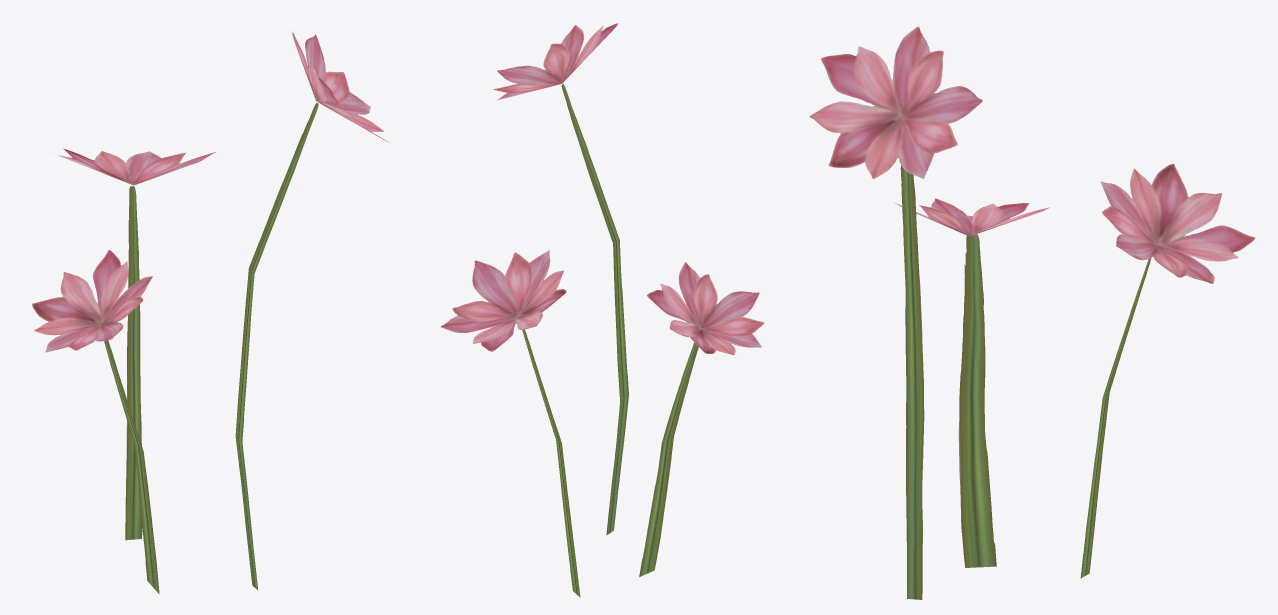
File: SM_Ground_Pink_Flower_B.fbx
The picture shows the model from 3 angles, left to right: view 1: azimuth 30°, elevation 25°; view 2: azimuth 150°, elevation 25°; view 3: azimuth 270°, elevation 25°; orthographic projection. The views are drawn at different scales.
Parts seen in each view (by area): view 1: SM_Ground_Pink_Flower_B; view 2: SM_Ground_Pink_Flower_B; view 3: SM_Ground_Pink_Flower_B.
Boxes of the visible parts, bbox=[...] form: SM_Ground_Pink_Flower_B: bbox=[32, 32, 389, 594]; SM_Ground_Pink_Flower_B: bbox=[440, 23, 764, 597]; SM_Ground_Pink_Flower_B: bbox=[809, 26, 1255, 599].
Size of the model in its own units: 21.42 by 23.7 by 34.46.
Materials: 1 (1 with a texture image).
